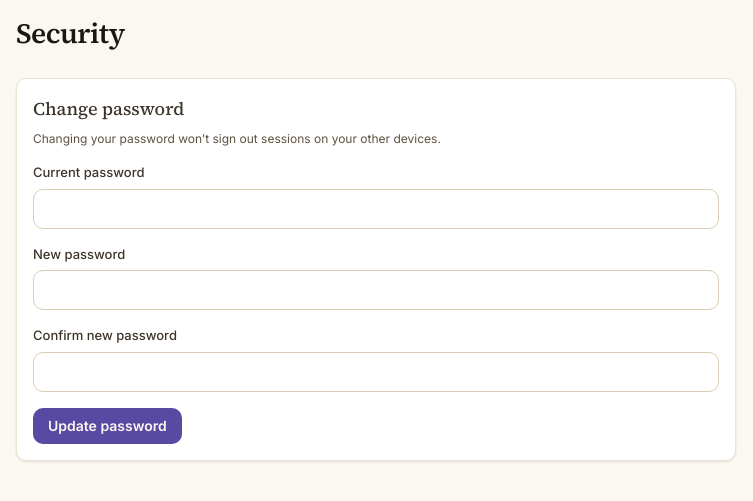
Scenario: SecurityPage › shows error when current password is wrong
In the password field named "current password": point(376, 208) left=33, top=188, right=719, bottom=228, type "wrongpass"
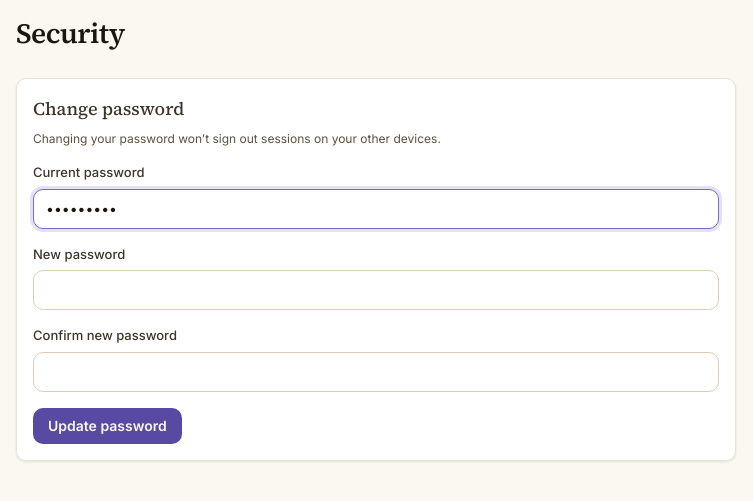
In the password field named "new password": point(376, 290) left=33, top=270, right=719, bottom=310, type "abcdefgh"
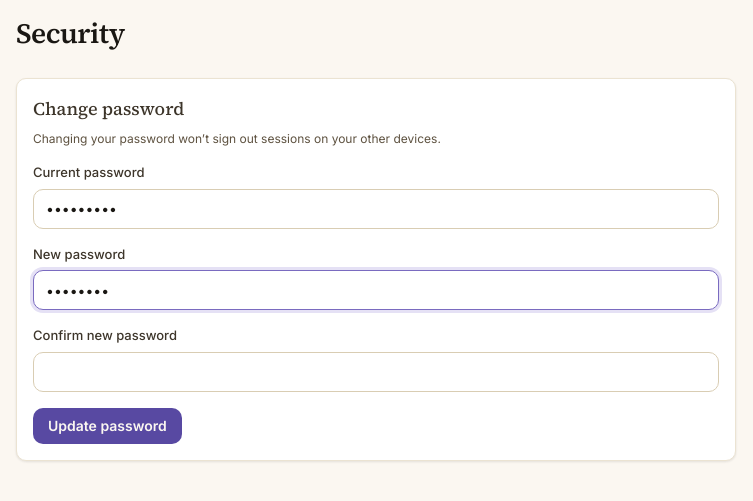
In the password field named "confirm new password": point(376, 372) left=33, top=352, right=719, bottom=392, type "abcdefgh"
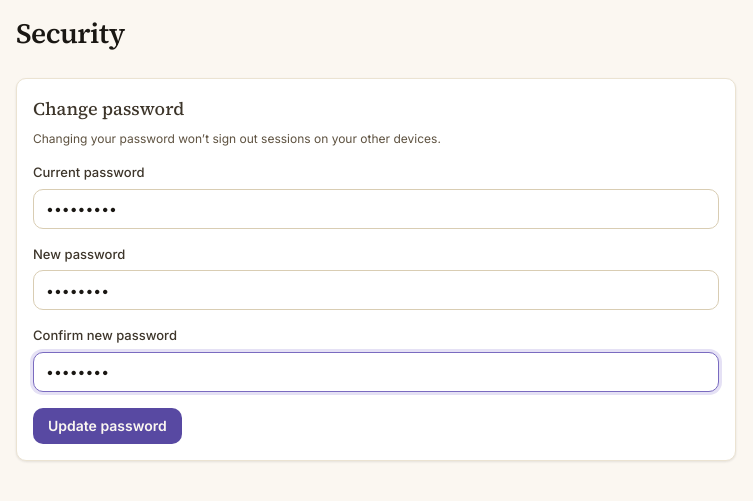
Click the button "Update password": point(107, 426) left=33, top=408, right=182, bottom=444
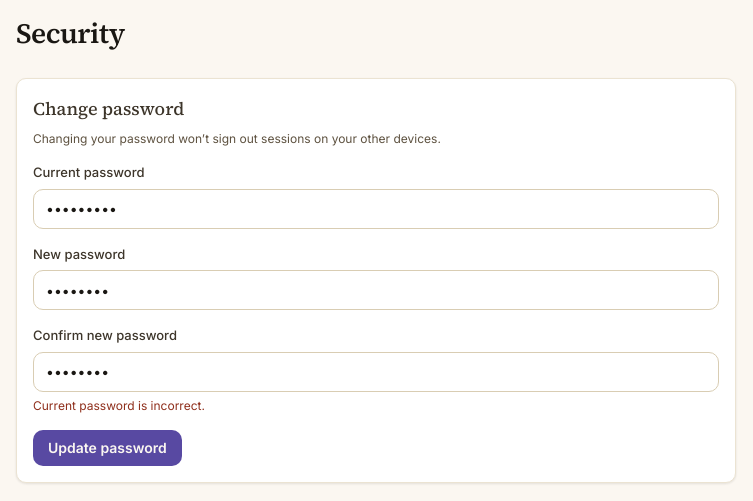
Expected: the text "Current password is incorrect." is shown, left=33, top=398, right=205, bottom=412
